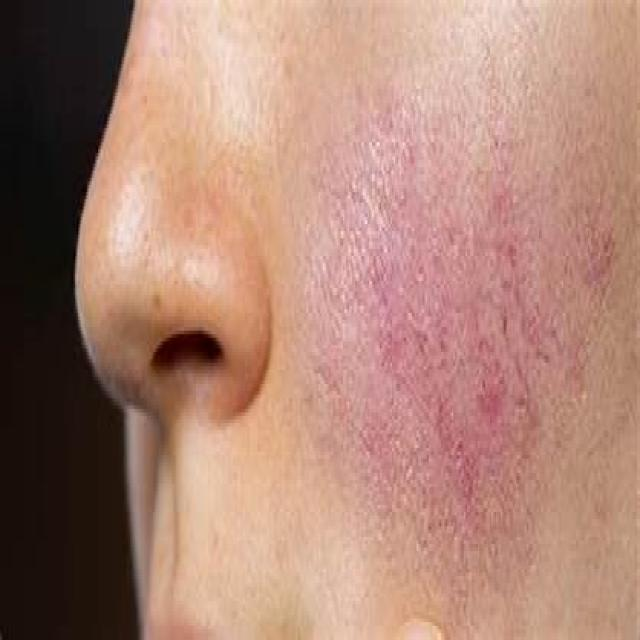Rosacea: (364, 240, 547, 588)
